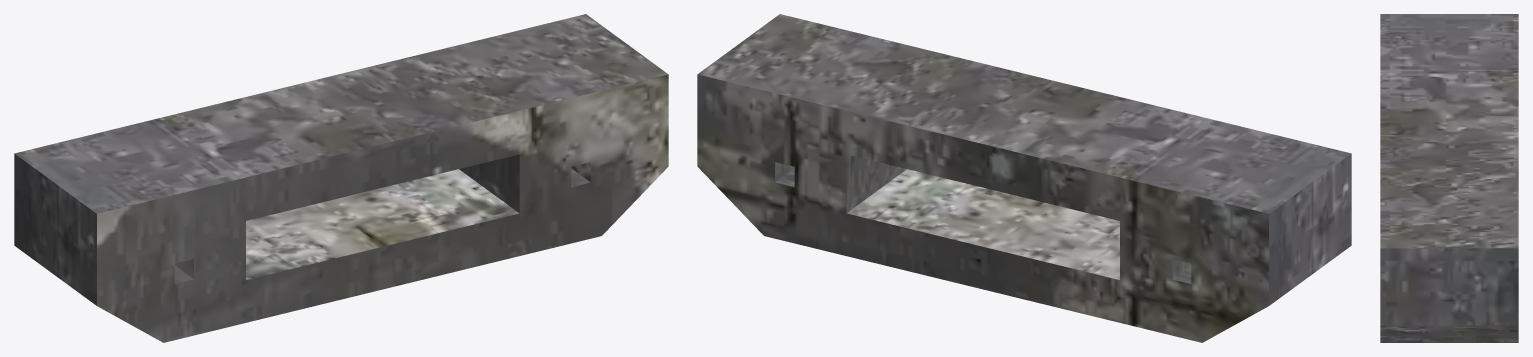
The model's file is banquitobrutalisnumoer3.glb.
The picture shows the model from 3 angles, left to right: view 1: azimuth 30°, elevation 25°; view 2: azimuth 150°, elevation 25°; view 3: azimuth 270°, elevation 25°; orthographic projection. The views are drawn at different scales.
Parts seen in each view (by area): view 1: Plane; view 2: Plane; view 3: Plane.
Boxes of the visible parts, bbox=[...] form: Plane: bbox=[14, 14, 668, 342]; Plane: bbox=[697, 14, 1351, 342]; Plane: bbox=[1380, 14, 1518, 342].
Size of the model in its own units: 3.36 by 0.8161 by 0.8394.
1 material, 1 textured.
